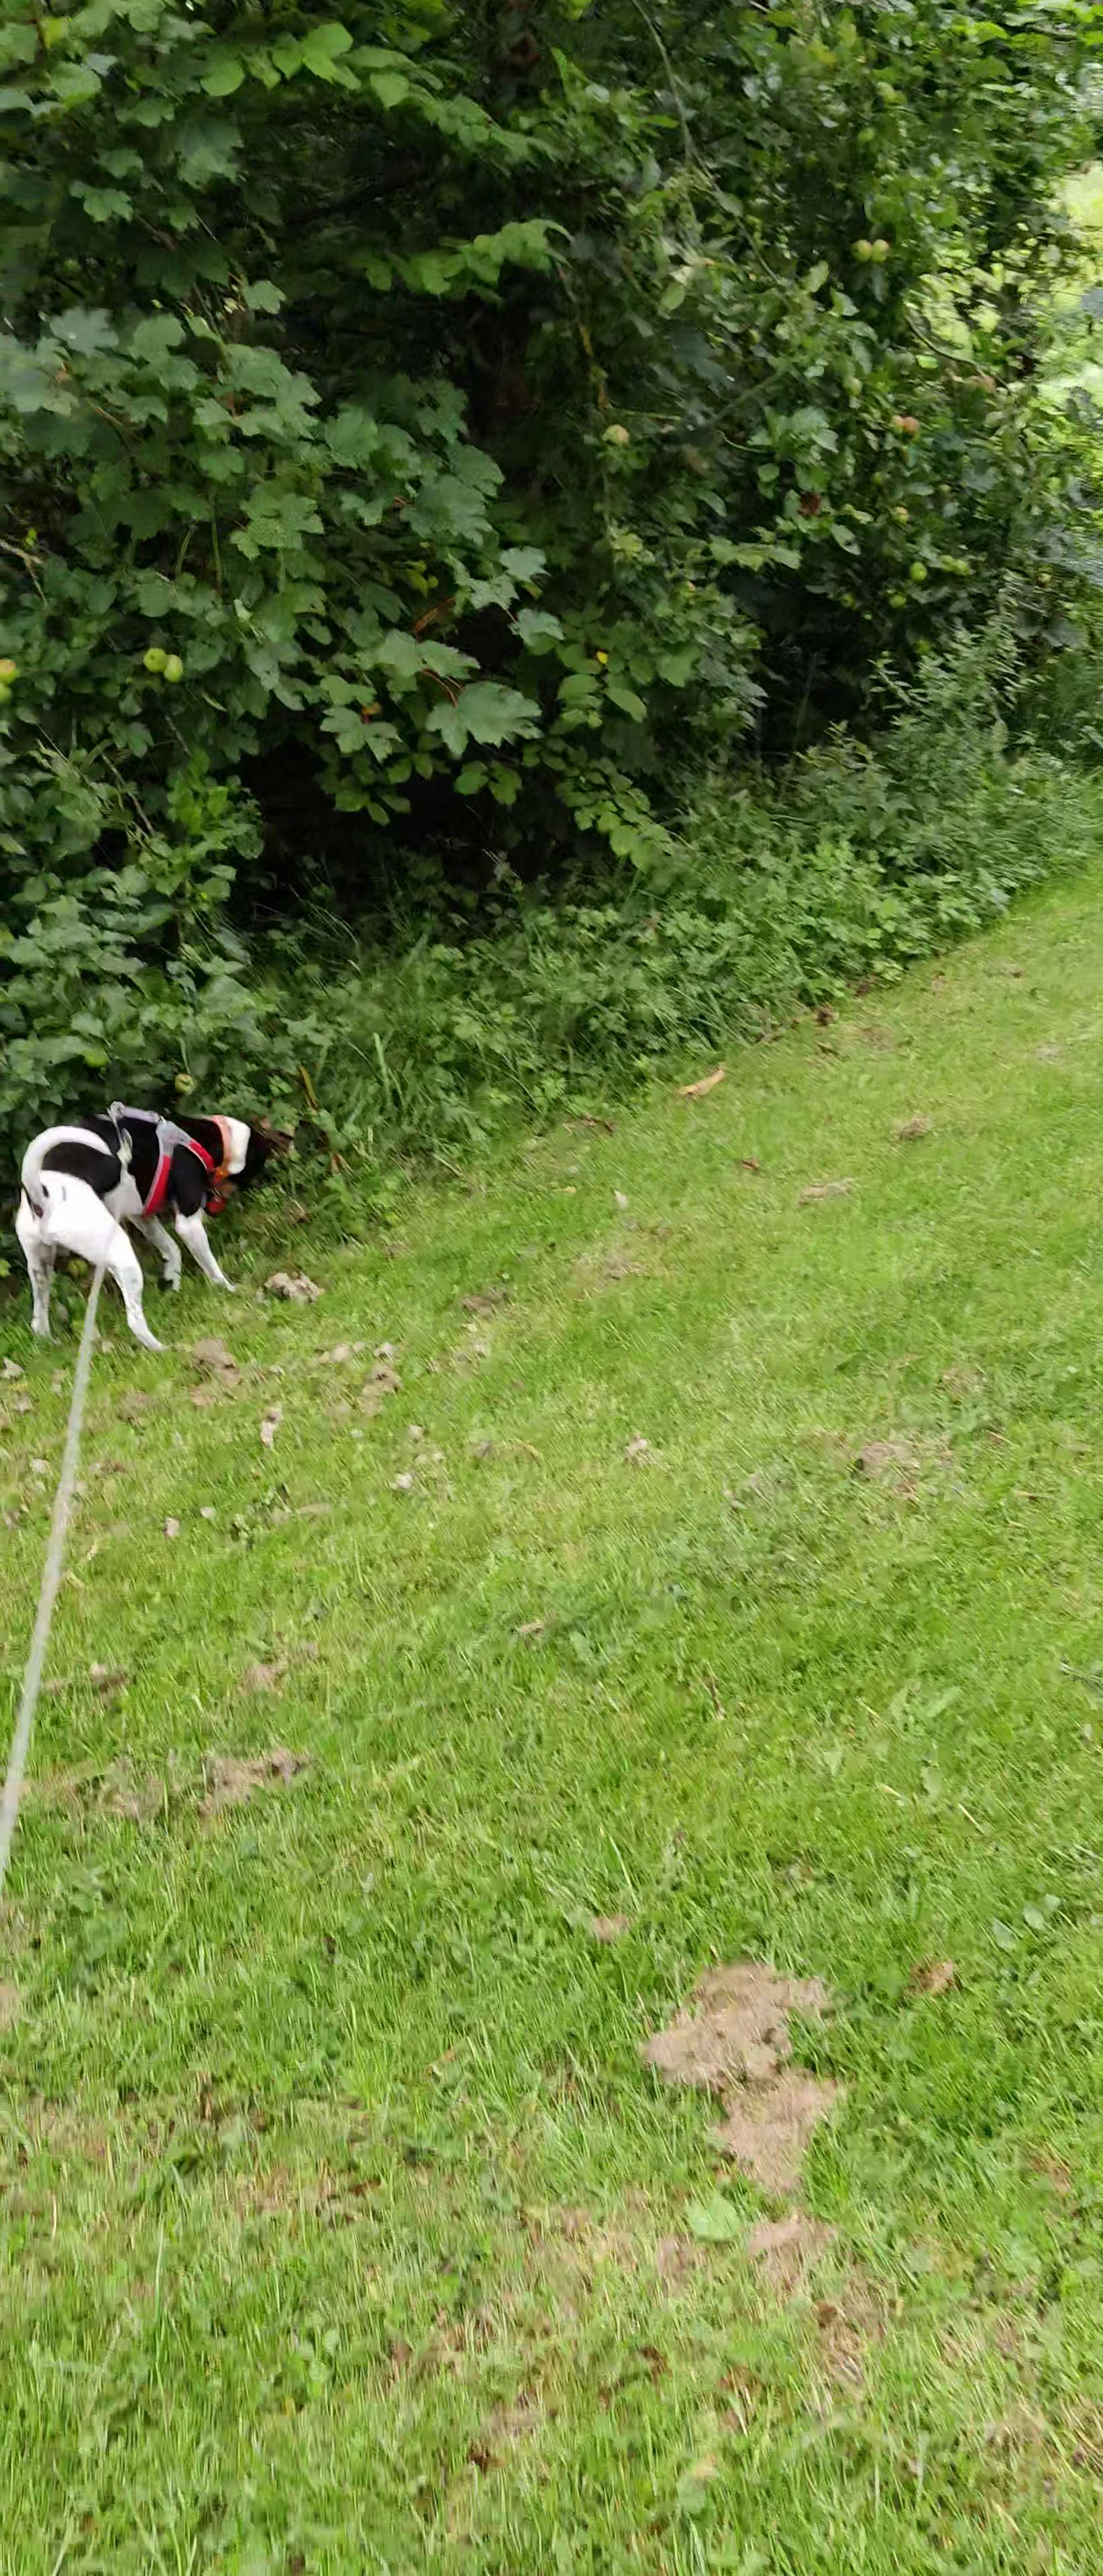Dog: (12, 1099, 293, 1357)
